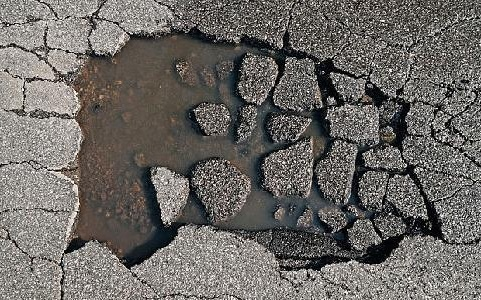pothole: (59, 22, 453, 275)
